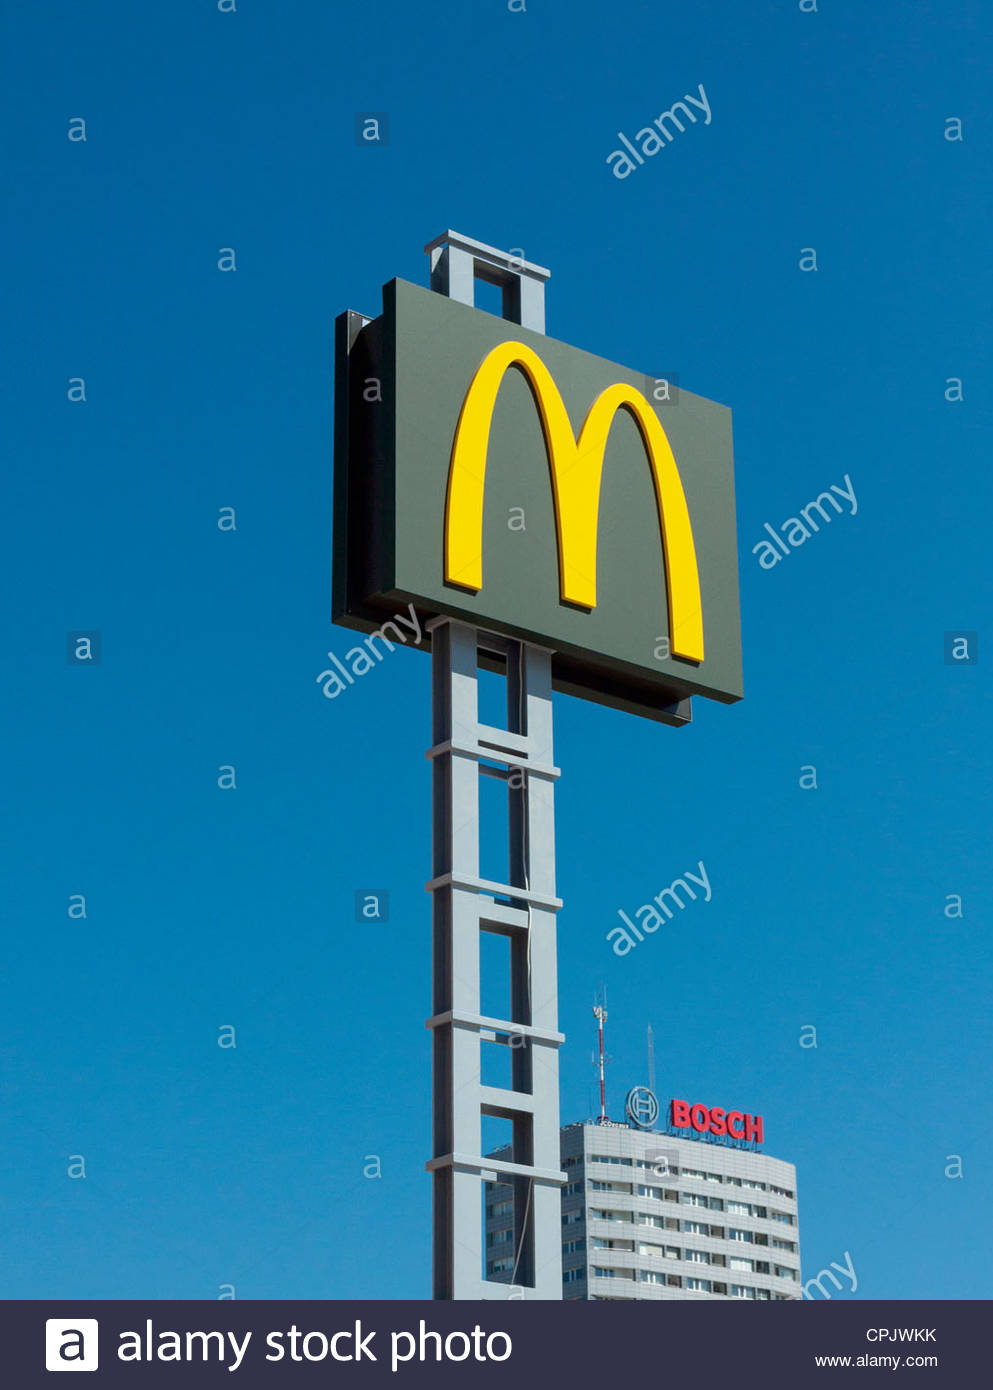mcdonalds: (443, 331, 706, 658)
